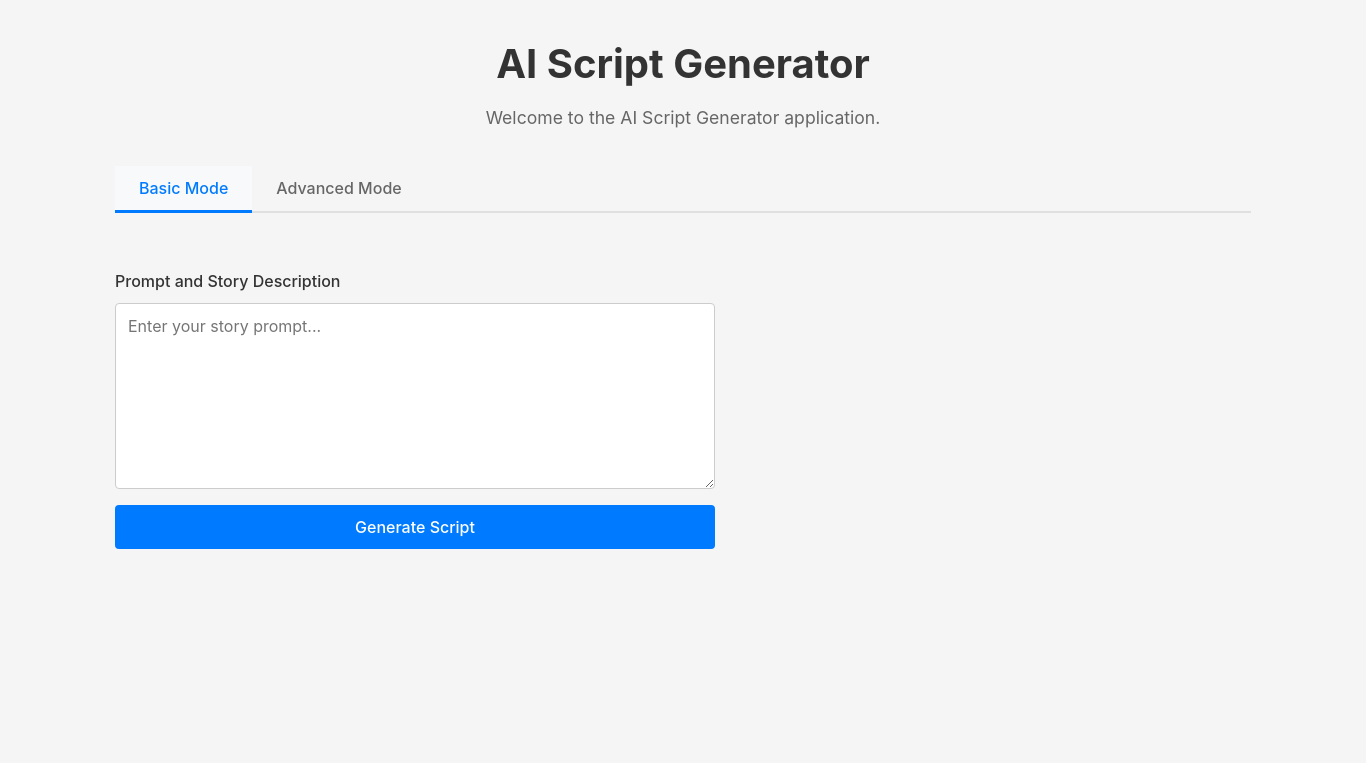
Test: App › switches back to basic mode when basic tab is clicked
# Switch to advanced
Click the tab "Advanced Mode". click: {"x": 339, "y": 190}
box: [252,166,426,213]
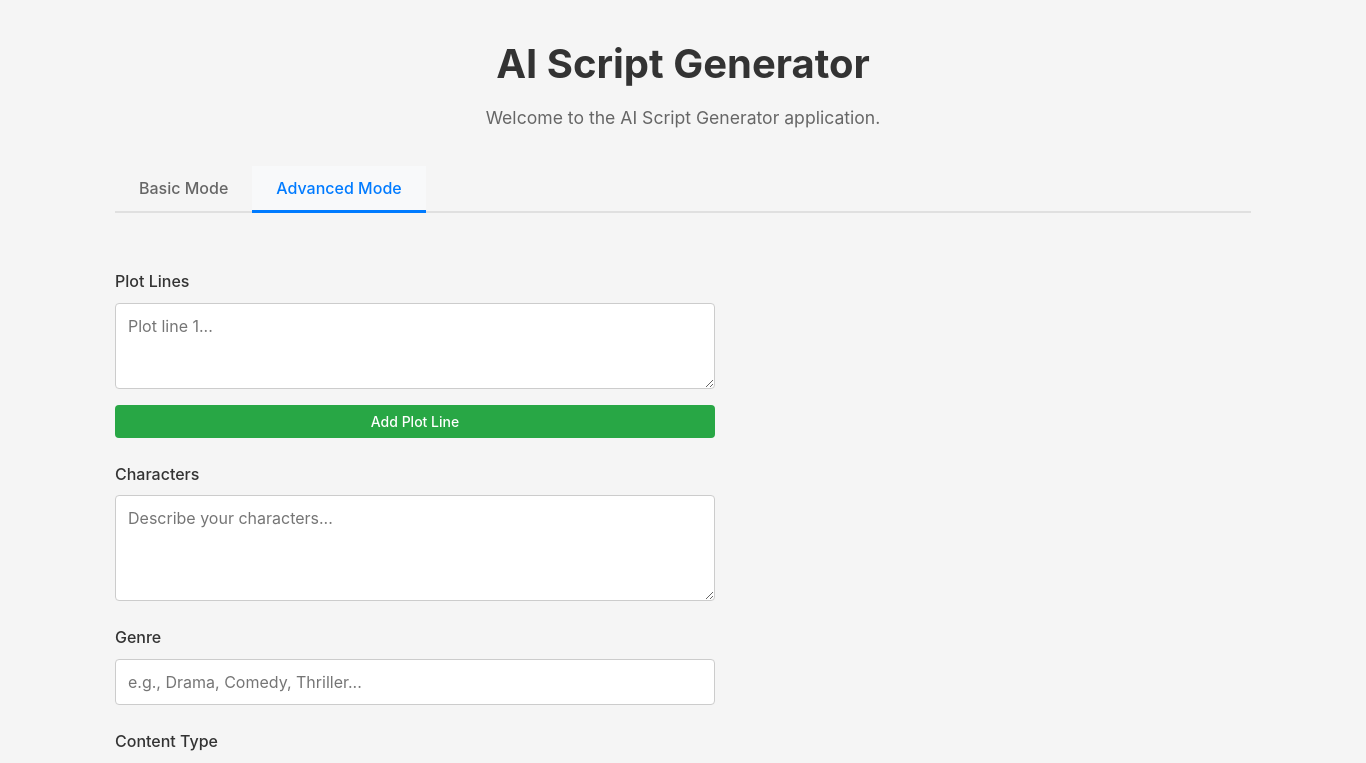
# Switch back to basic
Click the tab "Basic Mode". click: {"x": 184, "y": 190}
box: [115,166,252,213]
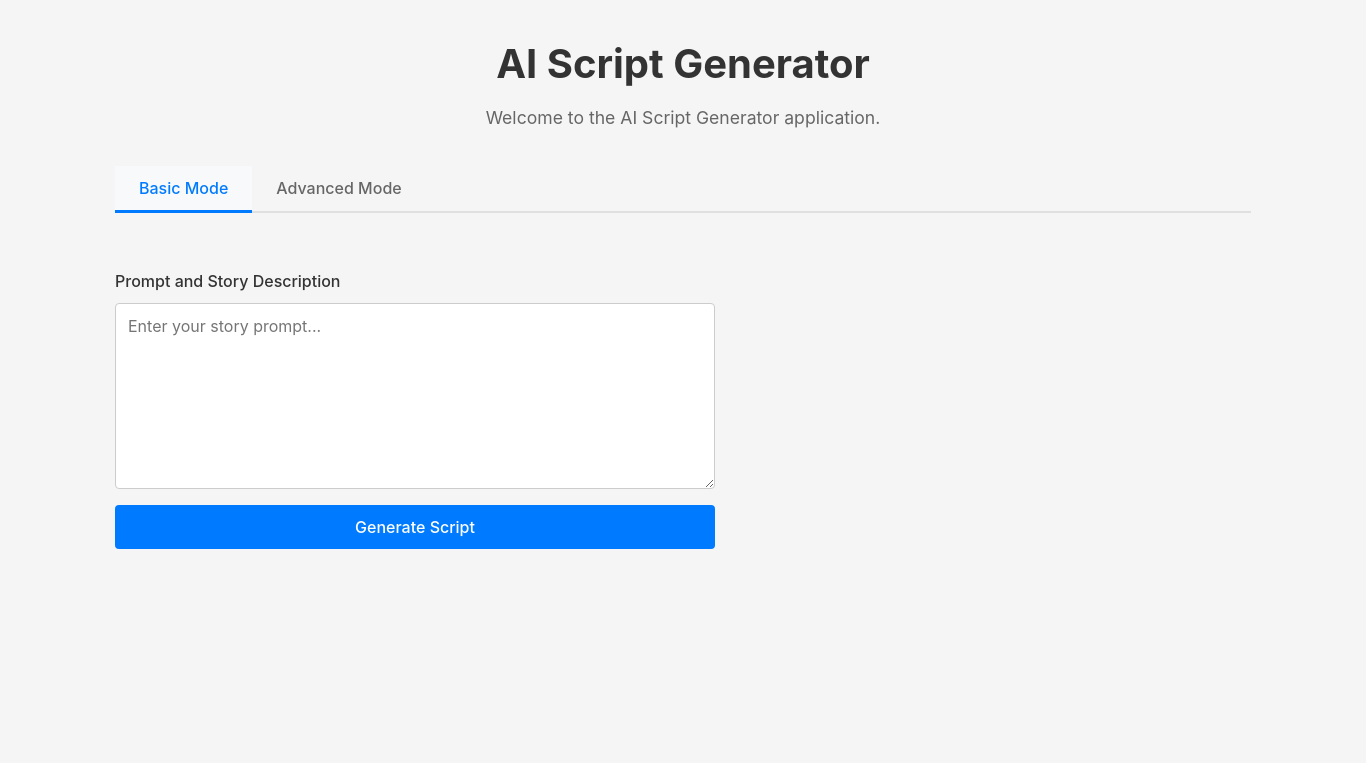
Expected: the text box labelled "Prompt and Story Description" is shown, [115,303,715,489]
